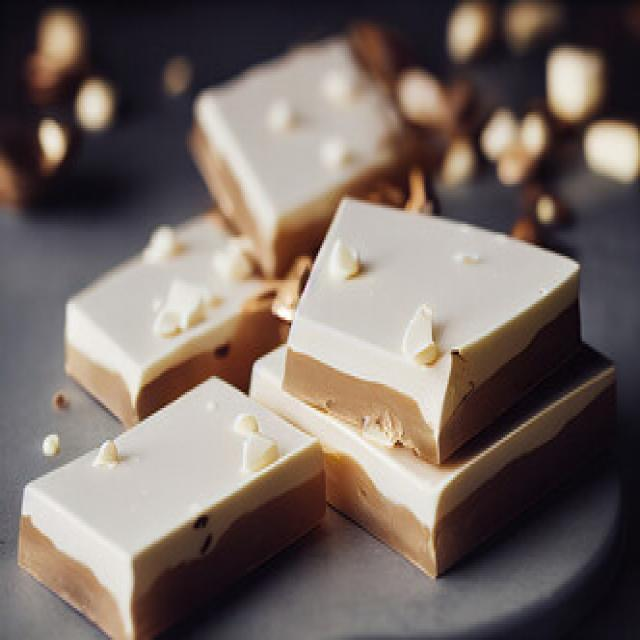Chocolate: (248, 190, 618, 577), (26, 375, 329, 640), (188, 36, 412, 275), (66, 210, 278, 425)
